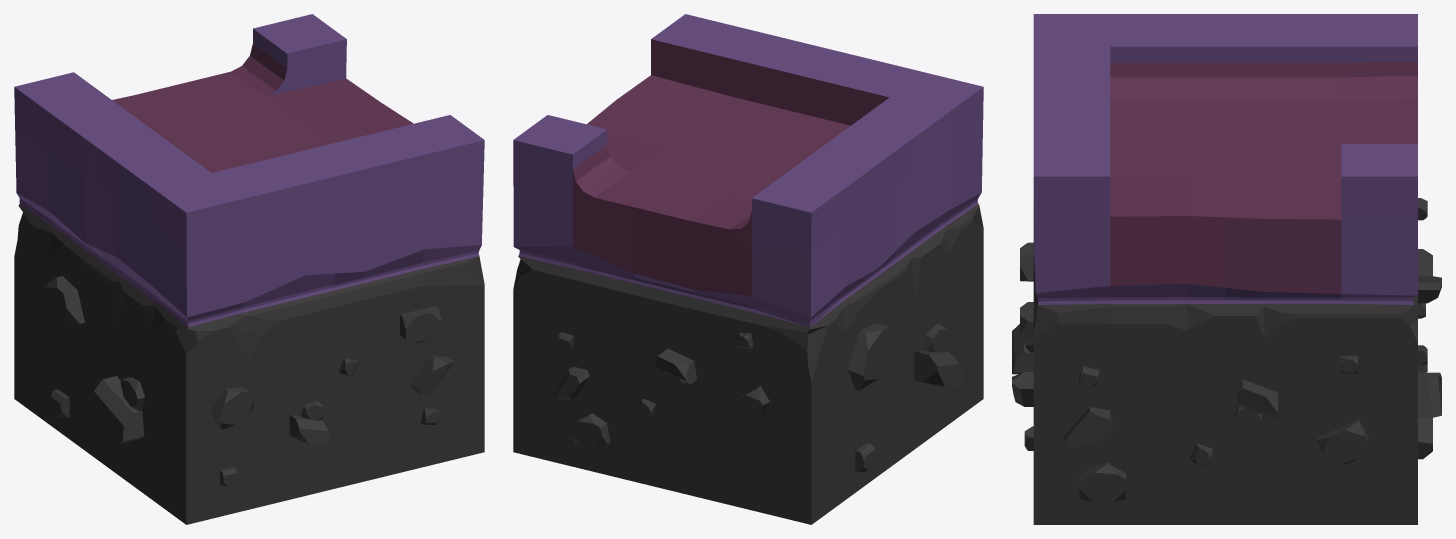
The model's file is TileRoadAngleTest.fbx.
3 views of the same model, side by side, from view 1: azimuth 30°, elevation 25°; view 2: azimuth 150°, elevation 25°; view 3: azimuth 270°, elevation 25° (orthographic). The views are drawn at different scales.
Parts seen in each view (by area): view 1: Grass.002; view 2: Grass.002; view 3: Grass.002.
Boxes of the visible parts, x1,y1,x2,y2 form: Grass.002: [14, 14, 484, 524]; Grass.002: [513, 14, 983, 524]; Grass.002: [1012, 14, 1441, 524].
Size of the model in its own units: 227 by 200 by 224.
